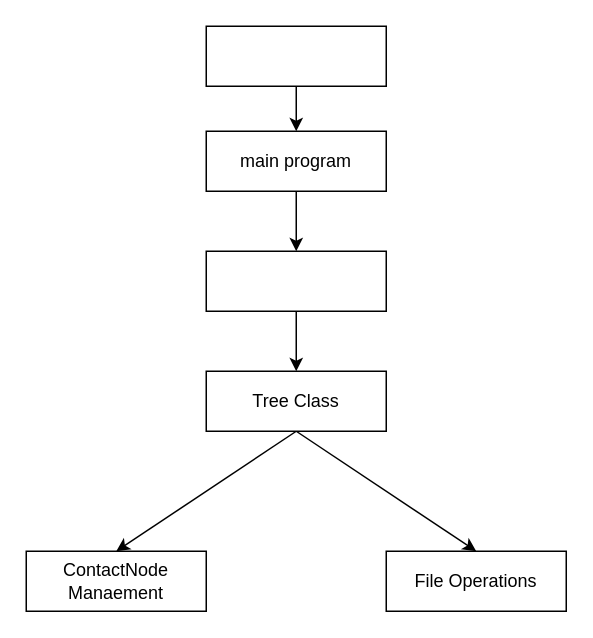
The diagram is 593 pixels wide and 638 high, and some of its shapes have lost their labels. The centre of each missing label's shape, as x and y in pixels:
"App Class" belongs at (295,280).
"User Interface" belongs at (295,55).
